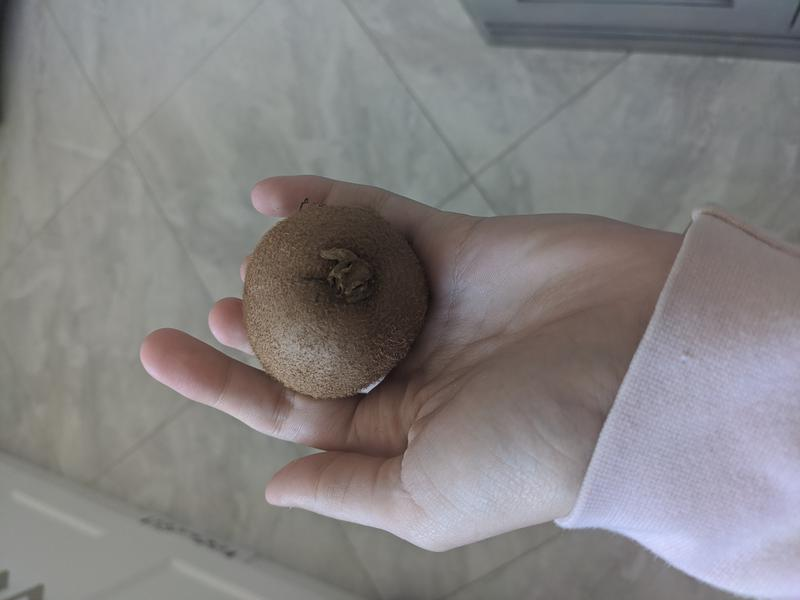kiwi: (242, 205, 429, 400)
